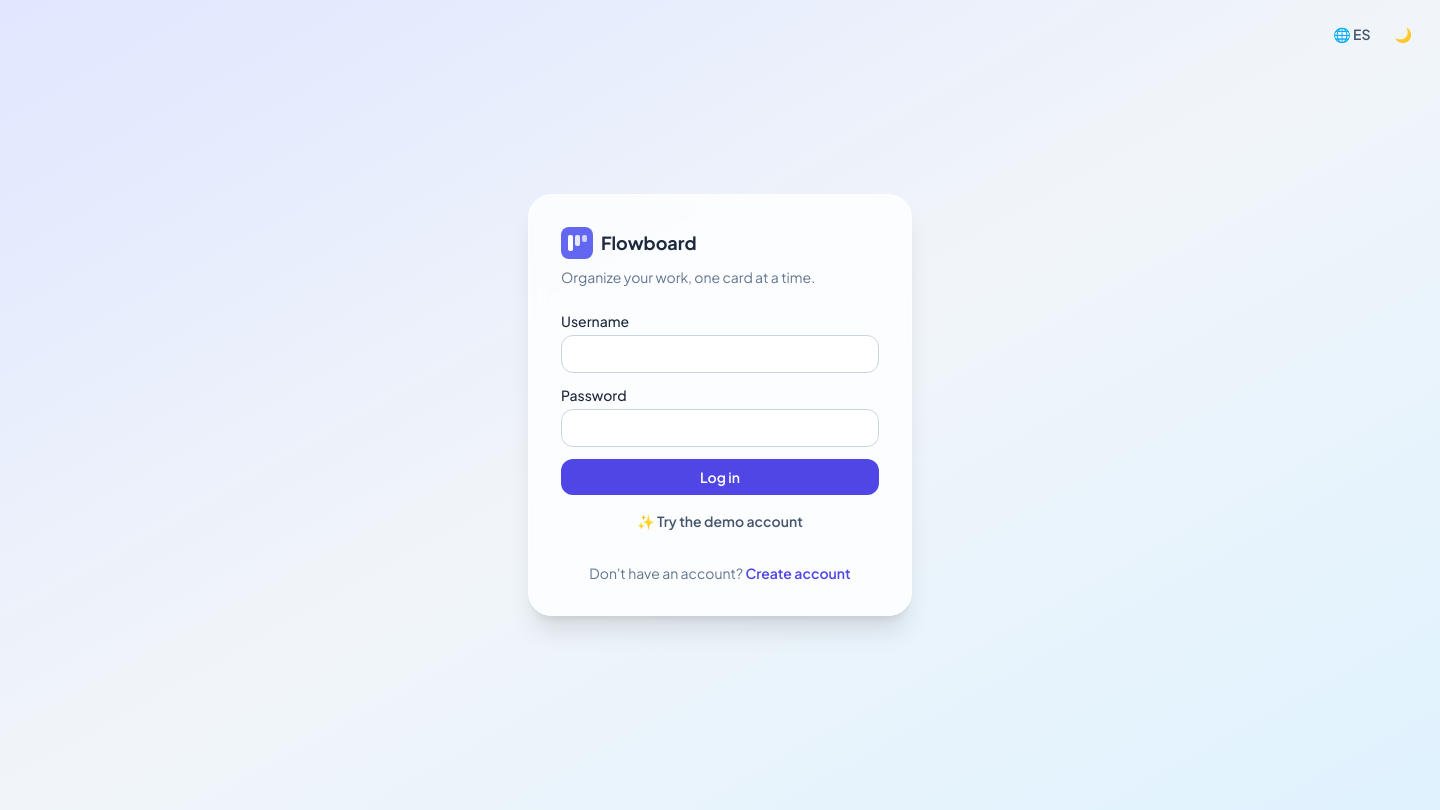
Test: AuthPage › shows an error for invalid credentials
The width and height of the screenshot is (1440, 810).
Type "nobody" into the field labelled "Username" at (720, 354), box [561,335,879,373]
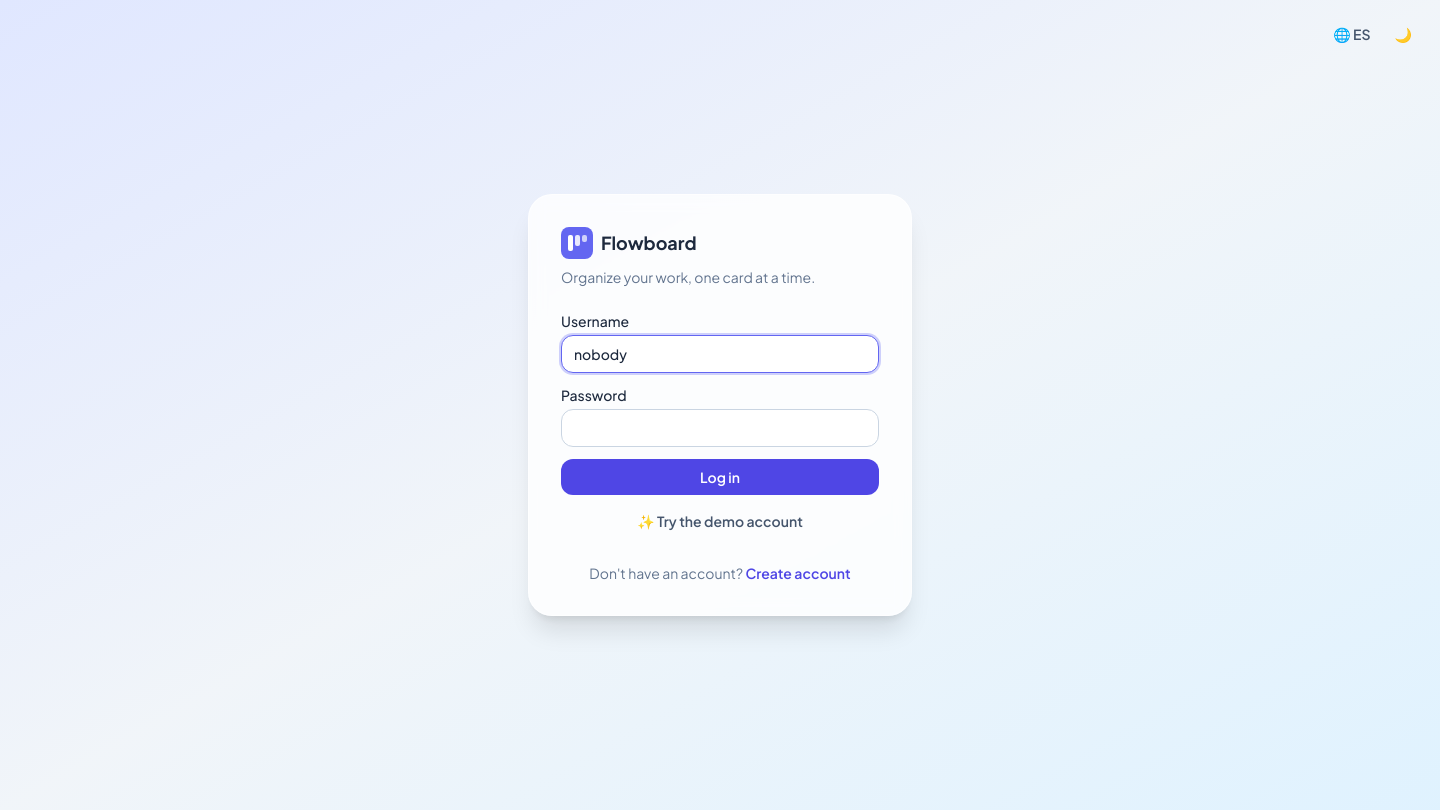
Type "wrong-password" into the password field labelled "Password" at (720, 428), box [561,409,879,447]
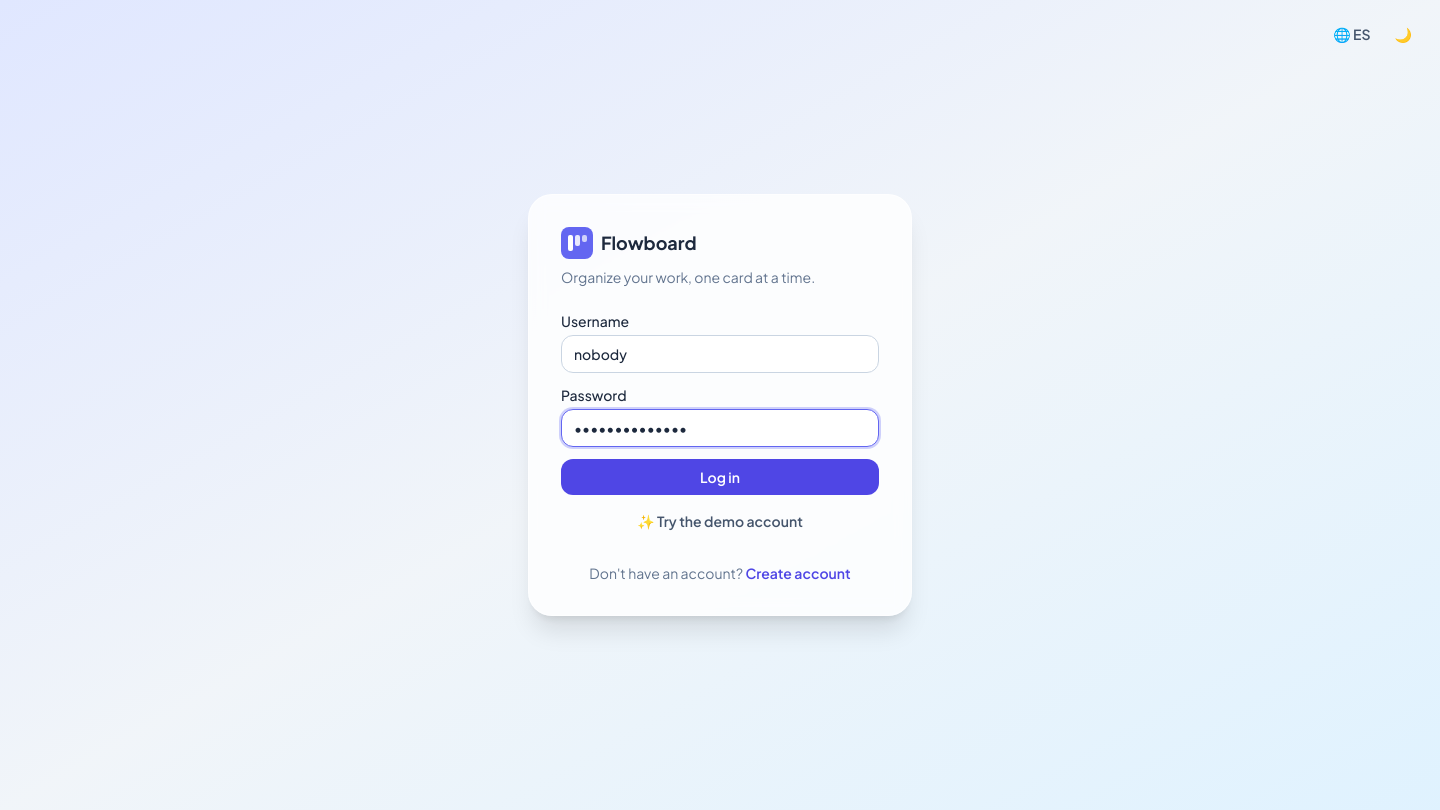
Click the button "Log in" at (720, 477), box [561,459,879,495]
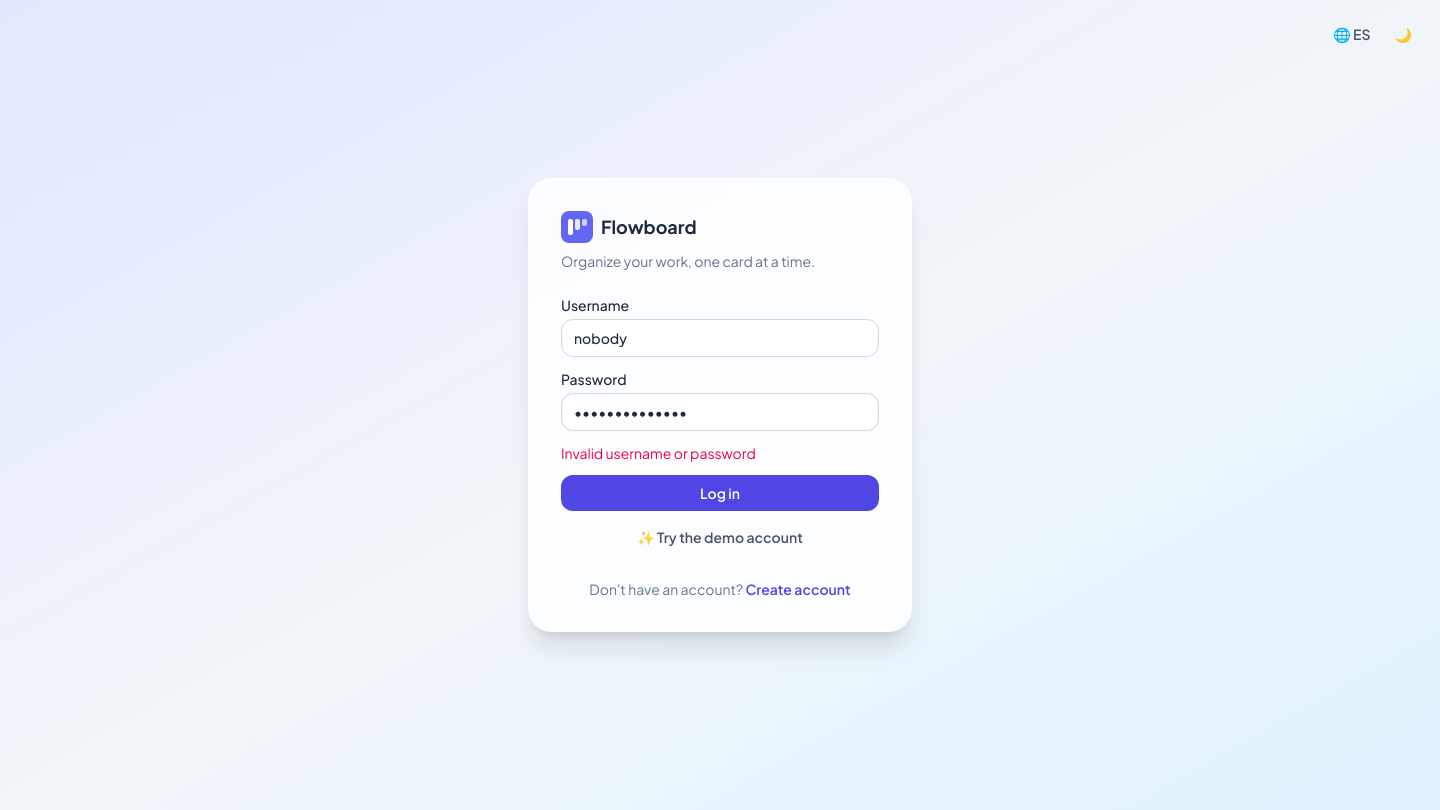
Now the message reads "Invalid username or password", box [561,444,756,462]
